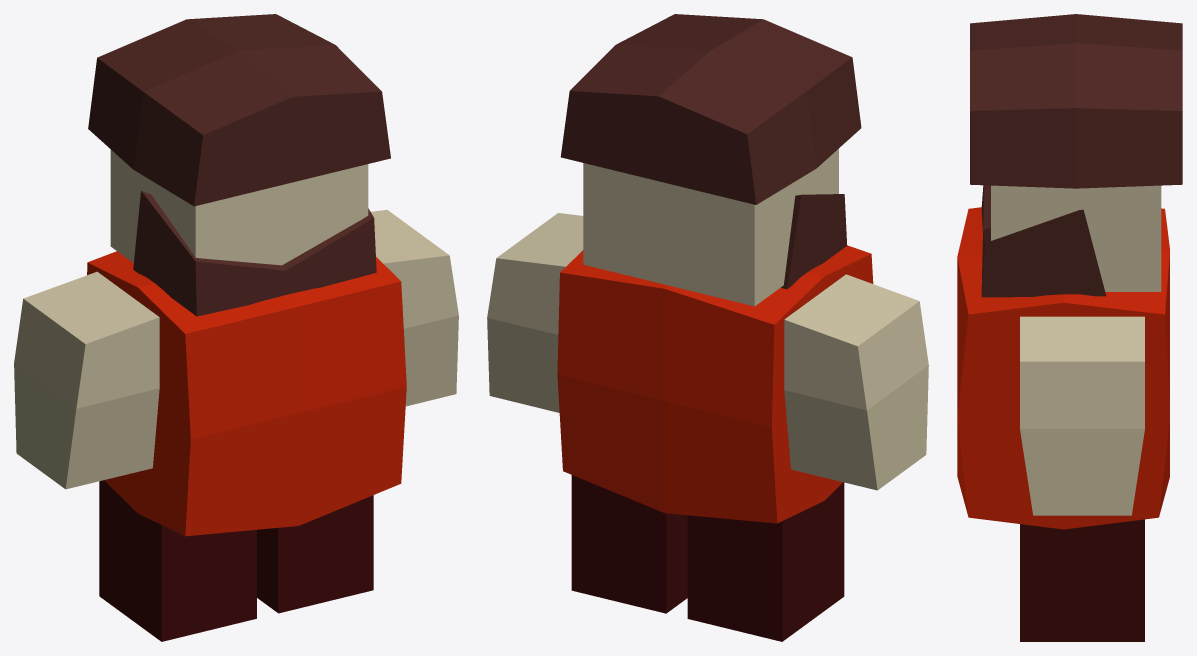
Rendered from jack.gltf.
3 renders of one model, left to right at view 1: azimuth 30°, elevation 25°; view 2: azimuth 150°, elevation 25°; view 3: azimuth 270°, elevation 25°, orthographic.
Visible parts, largest first — view 1: jack; view 2: jack; view 3: jack.
Part boxes in pixels (x1,y1,x2,y2): jack: [14, 14, 458, 641]; jack: [487, 14, 928, 641]; jack: [957, 14, 1182, 641].
Size of the model in its own units: 3.62 by 4.82 by 1.8.
